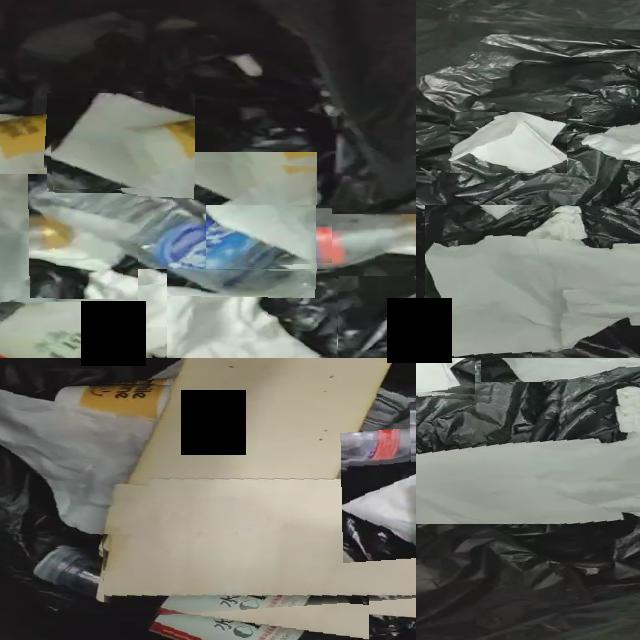bottle: (28, 155, 316, 296), (33, 547, 369, 640), (274, 214, 416, 276)
carton: (103, 358, 416, 600)
dixie_cup: (0, 114, 102, 162), (56, 385, 171, 420)
paper: (425, 211, 640, 358), (0, 269, 338, 358), (416, 402, 640, 524), (0, 391, 153, 534), (0, 148, 138, 302), (51, 93, 195, 189), (168, 270, 325, 358), (207, 205, 332, 267), (451, 112, 567, 172), (339, 494, 416, 569), (416, 358, 468, 393)
